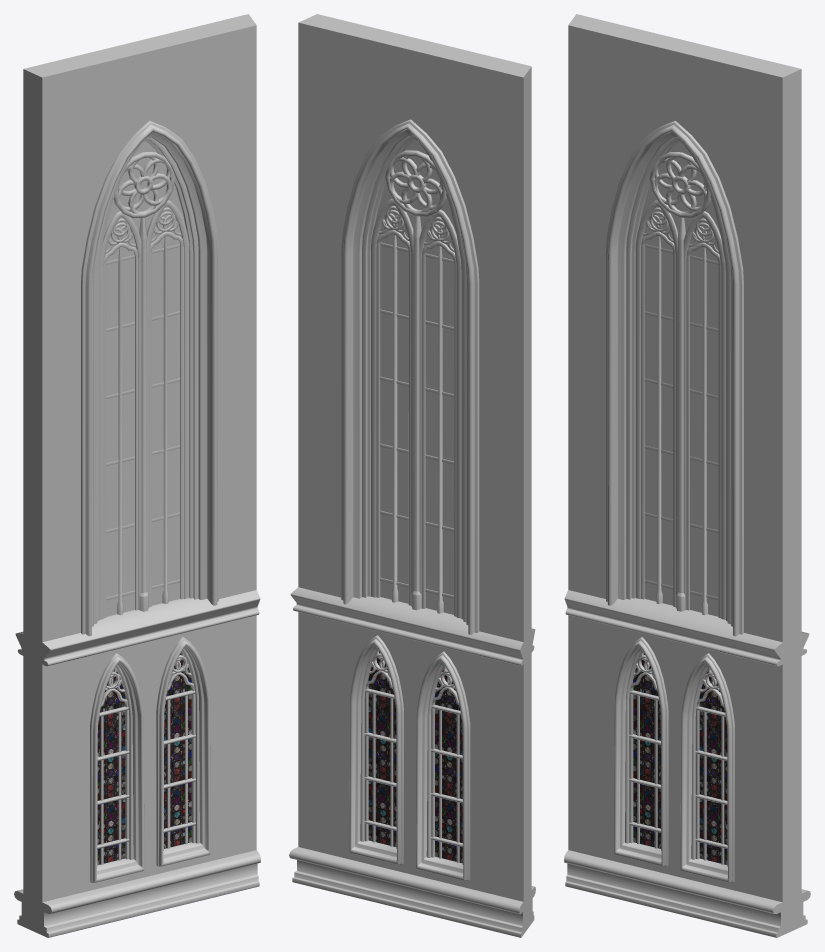
Rendered from Wall_C.fbx.
3 renders of one model, left to right at view 1: azimuth 30°, elevation 25°; view 2: azimuth 150°, elevation 25°; view 3: azimuth 330°, elevation 25°, orthographic.
Visible parts, largest first — view 1: Wall_C, Wall_C_Glass; view 2: Wall_C, Wall_C_Glass; view 3: Wall_C, Wall_C_Glass.
Boxes of the visible parts, bbox=[...] form: Wall_C: bbox=[14, 14, 260, 937]; Wall_C_Glass: bbox=[97, 141, 192, 864]; Wall_C: bbox=[289, 14, 535, 937]; Wall_C_Glass: bbox=[368, 139, 462, 863]; Wall_C: bbox=[564, 14, 810, 937]; Wall_C_Glass: bbox=[632, 141, 727, 864].
Bounding box in the file's own units: 4.78 × 17 × 0.9761.
